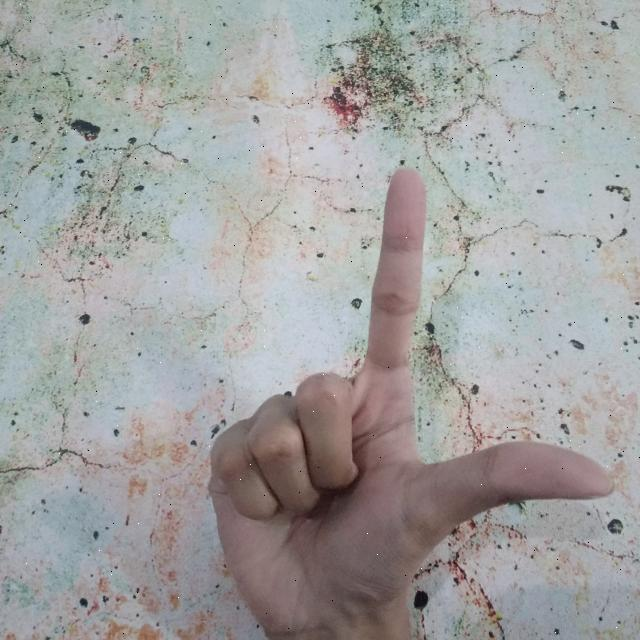L: (206, 158, 622, 640)
